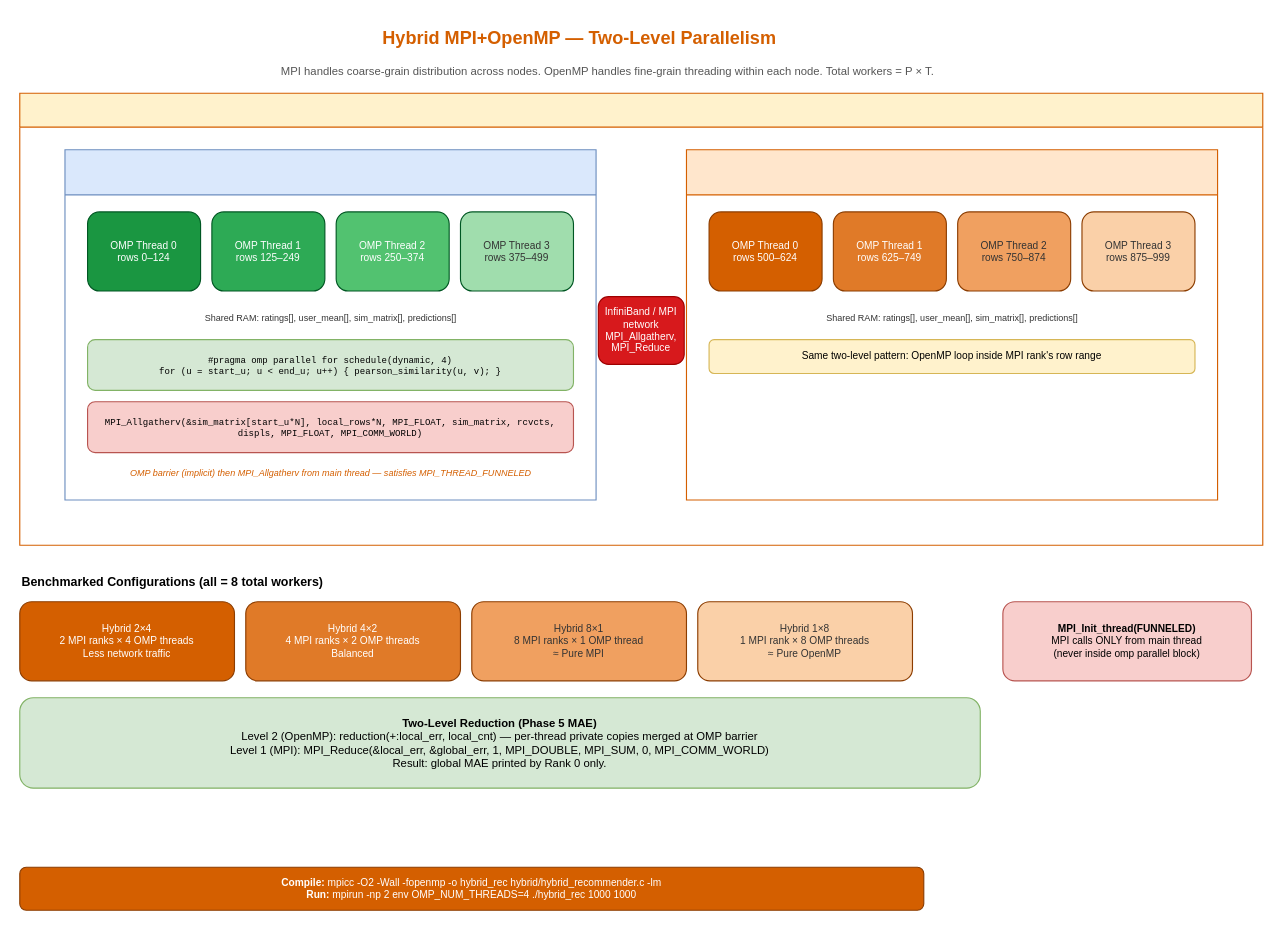
This 1283x930 diagram has some shape labels left out. The shapes that lost their labels are listed below. From the top down, each one's box as (x1, y1, x2, y2) in pixels, then its label:
(64, 149, 596, 500): Node 0 — MPI Rank 0 Users 0–499 | Private RAM
(19, 92, 1263, 545): HPC CLUSTER
(685, 149, 1218, 500): Node 1 — MPI Rank 1 Users 500–999 | Private RAM
